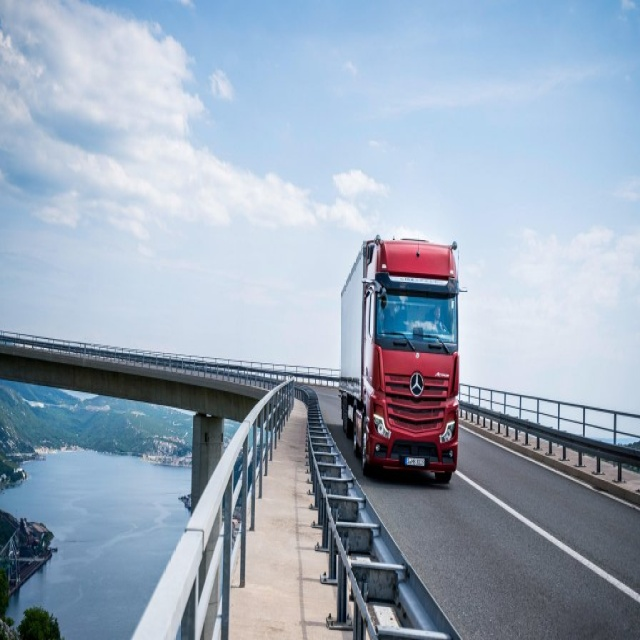truck: (340, 236, 468, 483)
